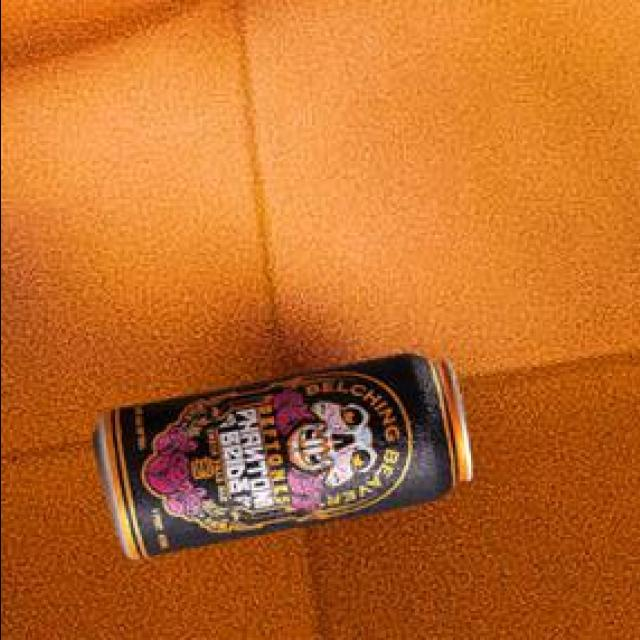logam: (95, 350, 473, 556)
